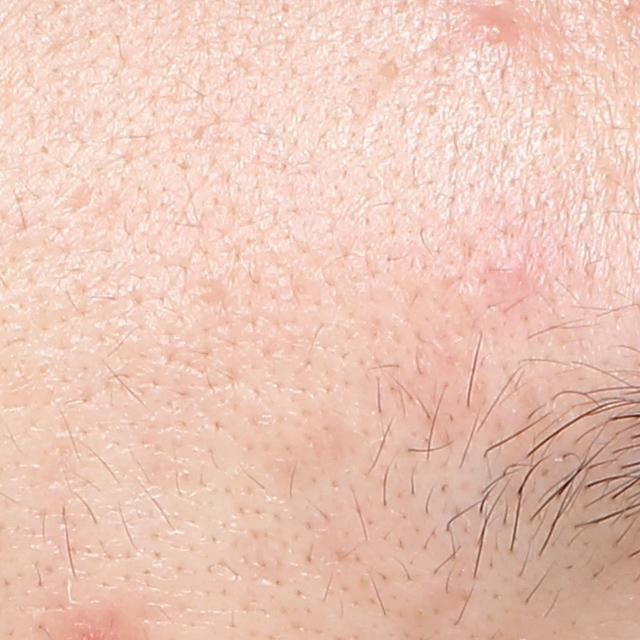papule: (469, 4, 528, 50)
